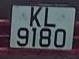0: (53, 27, 70, 49)
1: (30, 27, 39, 49)
8: (39, 28, 53, 48)
9: (16, 27, 31, 48)
K: (29, 7, 43, 29)
L: (42, 7, 58, 29)
